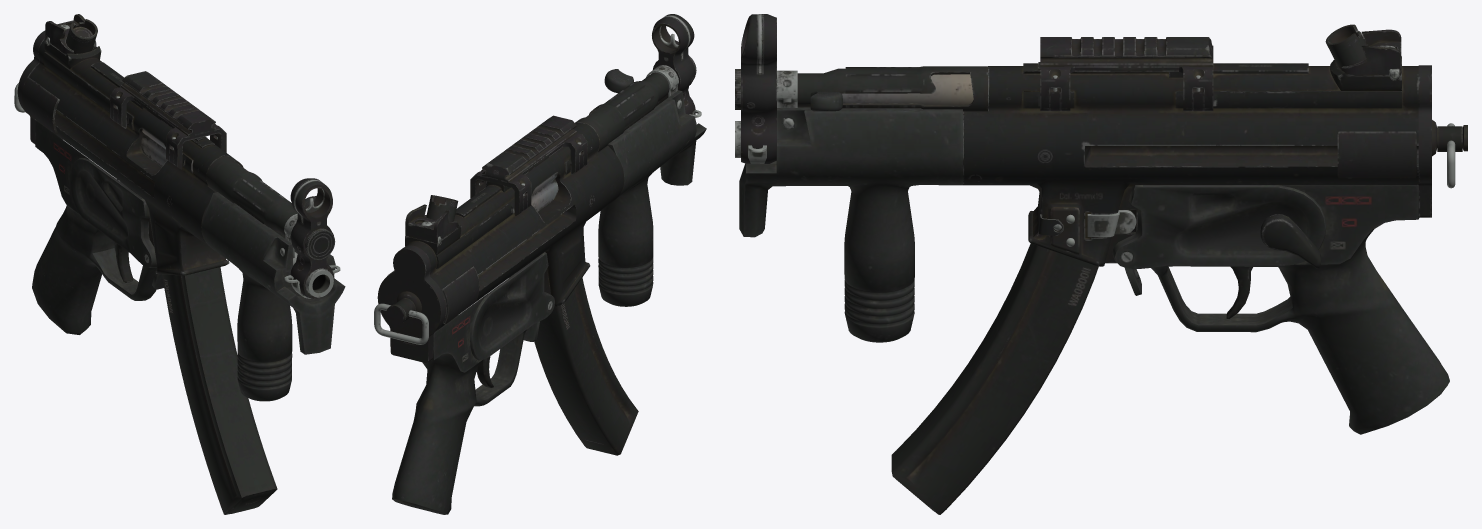
3 views of the same model, side by side, from view 1: azimuth 30°, elevation 25°; view 2: azimuth 150°, elevation 25°; view 3: azimuth 270°, elevation 25° (orthographic). The views are drawn at different scales.
Visible parts, largest first — view 1: Body_mp5; view 2: Body_mp5; view 3: Body_mp5.
Boxes of the visible parts, bbox=[...] form: Body_mp5: bbox=[14, 14, 345, 514]; Body_mp5: bbox=[374, 14, 706, 514]; Body_mp5: bbox=[735, 14, 1467, 514].
Bounding box in the file's own units: 0.0485 × 0.2394 × 0.325.
Materials: 2 (2 with a texture image).
